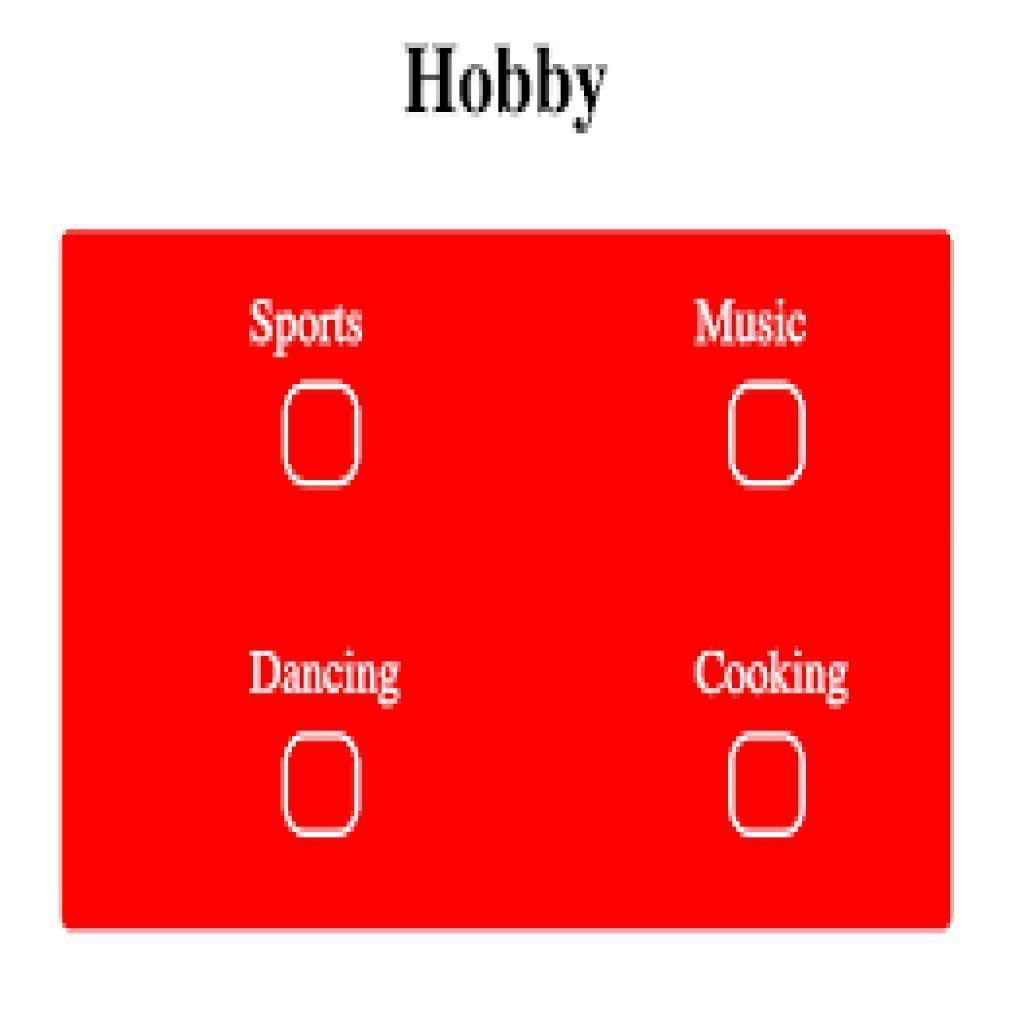checkbox: (723, 728, 814, 843), (280, 728, 363, 841), (282, 379, 363, 489), (728, 381, 807, 487)
